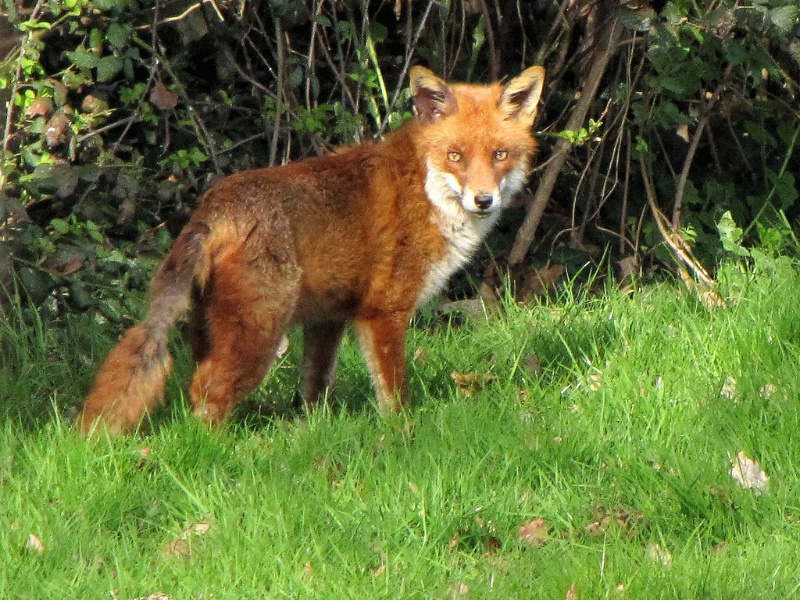fox: (72, 60, 548, 446)
